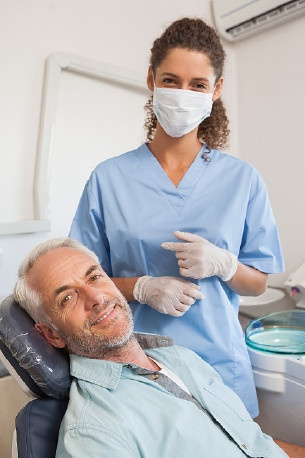Mask: (147, 64, 217, 134)
